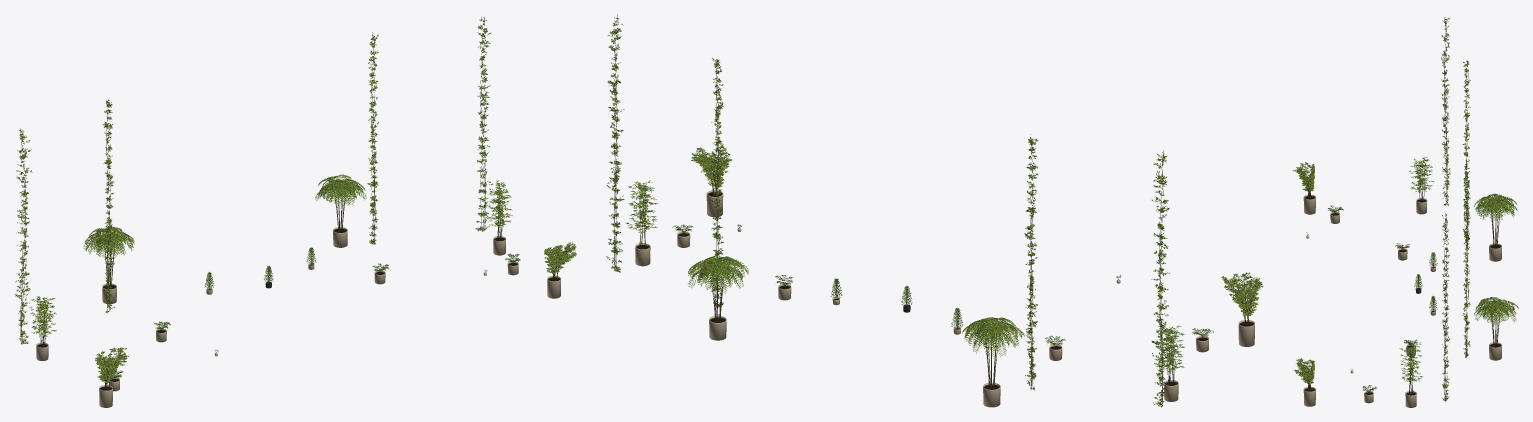
File: projection-grand-botanical-v1.glb
The picture shows the model from 3 angles, left to right: view 1: azimuth 30°, elevation 25°; view 2: azimuth 150°, elevation 25°; view 3: azimuth 270°, elevation 25°; orthographic projection. The views are drawn at different scales.
Visible parts, largest first — view 1: Projection Grand Botanical V1 | foliage small climbing leave, Projection Grand Botanical V1 | foliage slender areca and ba, Projection Grand Botanical V1 | planter champagne brushed me, Projection Grand Botanical V1 | bark textured natural warm g, Projection Grand Botanical V1 | foliage mature ficus with fi, Projection Grand Botanical V1 | foliage fine fern pinnae; view 2: Projection Grand Botanical V1 | foliage small climbing leave, Projection Grand Botanical V1 | foliage slender areca and ba, Projection Grand Botanical V1 | planter champagne brushed me, Projection Grand Botanical V1 | bark textured natural warm g, Projection Grand Botanical V1 | foliage mature ficus with fi, Projection Grand Botanical V1 | foliage fine fern pinnae, Projection Grand Botanical V1 | bark slender olive brown ste; view 3: Projection Grand Botanical V1 | foliage slender areca and ba, Projection Grand Botanical V1 | foliage small climbing leave, Projection Grand Botanical V1 | planter champagne brushed me, Projection Grand Botanical V1 | bark textured natural warm g, Projection Grand Botanical V1 | foliage mature ficus with fi, Projection Grand Botanical V1 | foliage fine fern pinnae, Projection Grand Botanical V1 | bark slender olive brown ste, Projection Grand Botanical V1 | soil dark coarse planting su.
Part boxes in pixels (x1,y1,x2,y2): Projection Grand Botanical V1 | foliage small climbing leave: (15,19,490,343); Projection Grand Botanical V1 | foliage slender areca and ba: (29,174,512,336); Projection Grand Botanical V1 | planter champagne brushed me: (36,227,560,407); Projection Grand Botanical V1 | bark textured natural warm g: (20,16,573,389); Projection Grand Botanical V1 | foliage mature ficus with fi: (95,242,576,383); Projection Grand Botanical V1 | foliage fine fern pinnae: (112,247,520,378); Projection Grand Botanical V1 | foliage small climbing leave: (606,18,1169,406); Projection Grand Botanical V1 | foliage slender areca and ba: (626,180,1185,371); Projection Grand Botanical V1 | planter champagne brushed me: (635,190,1254,407); Projection Grand Botanical V1 | bark textured natural warm g: (613,14,1257,407); Projection Grand Botanical V1 | foliage mature ficus with fi: (691,147,1263,316); Projection Grand Botanical V1 | foliage fine fern pinnae: (672,224,1213,345); Projection Grand Botanical V1 | bark slender olive brown ste: (612,32,1257,406); Projection Grand Botanical V1 | foliage slender areca and ba: (1399,157,1518,381); Projection Grand Botanical V1 | foliage small climbing leave: (1441,17,1470,401); Projection Grand Botanical V1 | planter champagne brushed me: (1303,194,1501,407); Projection Grand Botanical V1 | bark textured natural warm g: (1300,19,1500,398); Projection Grand Botanical V1 | foliage mature ficus with fi: (1292,162,1314,383); Projection Grand Botanical V1 | foliage fine fern pinnae: (1328,205,1437,392); Projection Grand Botanical V1 | bark slender olive brown ste: (1296,22,1512,400); Projection Grand Botanical V1 | soil dark coarse planting su: (1304,196,1501,395).
Bounding box in the file's own units: 23.11 × 10.31 × 10.75.
Materials: 11 (7 with a texture image).
